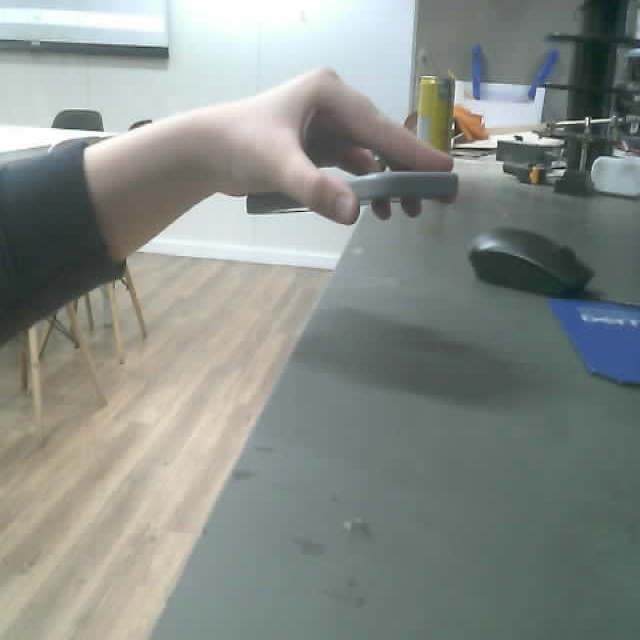phone: (247, 171, 459, 216)
